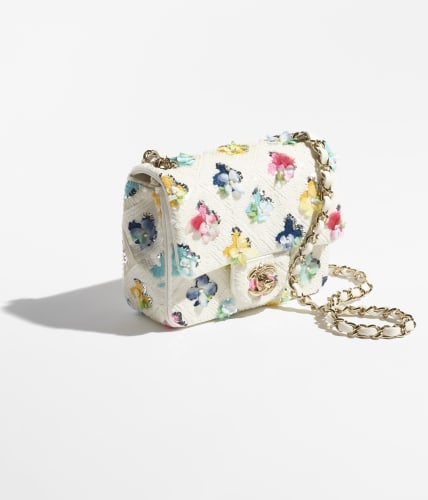channel: (90, 108, 364, 321), (277, 233, 424, 343)
